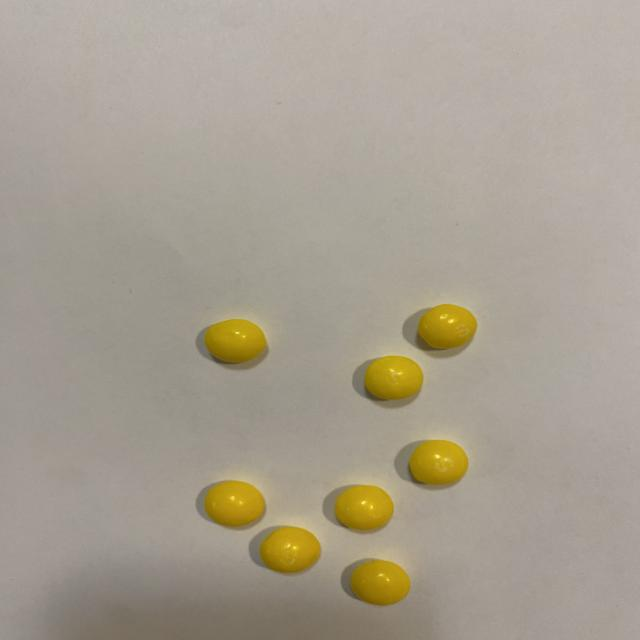smartie: (204, 481, 264, 528), (259, 528, 320, 574), (409, 440, 469, 486), (204, 319, 266, 363), (350, 561, 410, 606), (334, 486, 394, 531), (418, 304, 477, 349), (365, 356, 423, 400)
